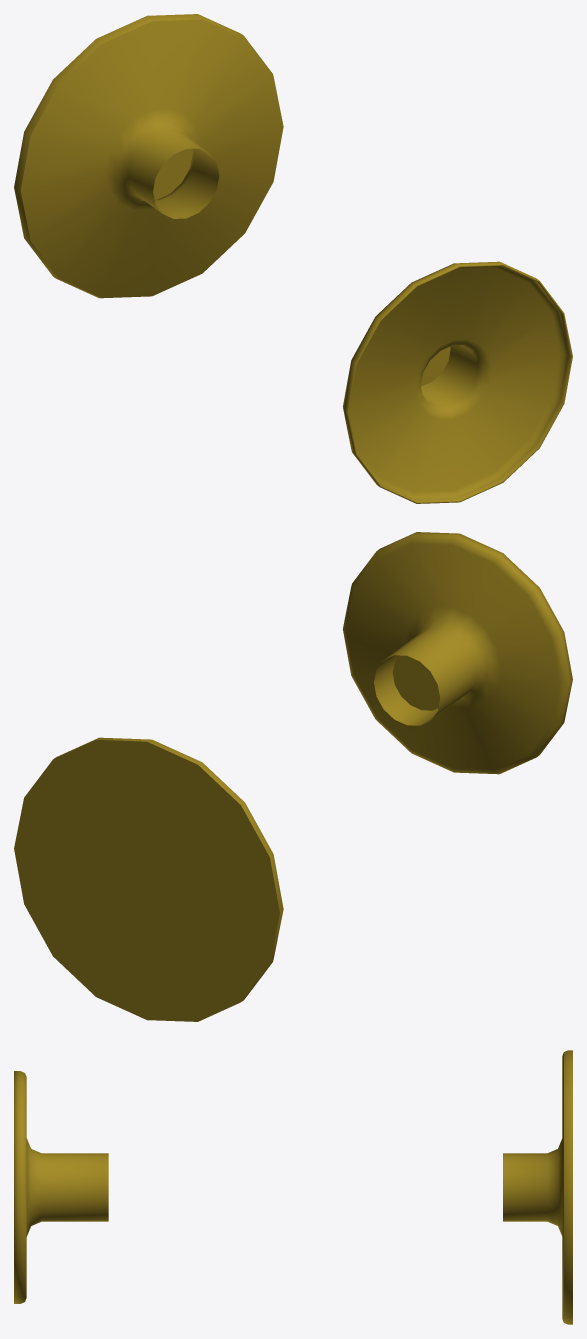
Rendered from MeshRobothorCandleGlittrig_3_0_GeomSubset_0.obj.
The picture shows the model from 3 angles, top to bottom: view 1: azimuth 30°, elevation 25°; view 2: azimuth 150°, elevation 25°; view 3: azimuth 270°, elevation 25°; orthographic projection. The views are drawn at different scales.
Parts seen in each view (by area): view 1: MeshRobothorCandleGlittrig_3_0_GeomSubset_0; view 2: MeshRobothorCandleGlittrig_3_0_GeomSubset_0; view 3: MeshRobothorCandleGlittrig_3_0_GeomSubset_0.
Part boxes in pixels (x1,y1,x2,y2): MeshRobothorCandleGlittrig_3_0_GeomSubset_0: (14,14,572,503); MeshRobothorCandleGlittrig_3_0_GeomSubset_0: (14,532,572,1021); MeshRobothorCandleGlittrig_3_0_GeomSubset_0: (14,1050,572,1324).
Bounding box in the file's own units: 0.1 × 0.1 × 0.2038.
